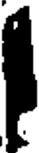Reed: (2, 5, 36, 152)
